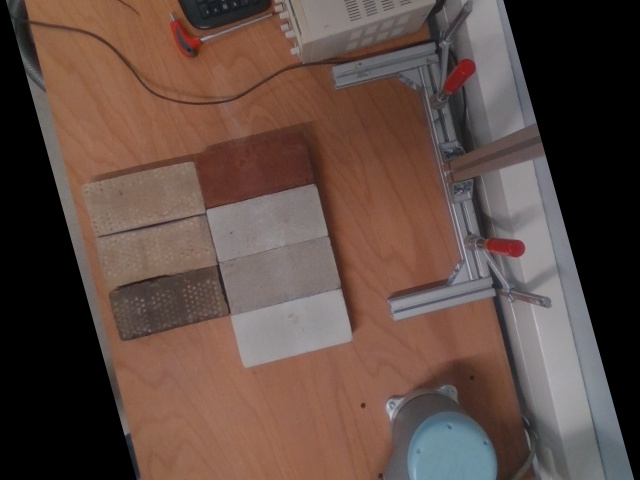brick: (229, 289, 353, 368), (205, 183, 326, 261), (193, 129, 314, 207), (107, 264, 228, 342), (217, 237, 339, 314), (82, 158, 204, 234), (94, 212, 216, 287)
